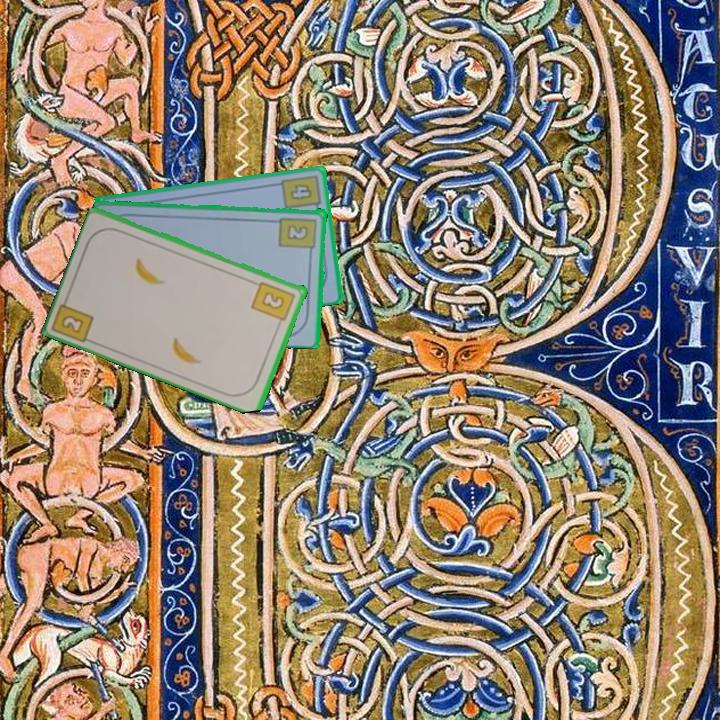2b: (249, 278, 298, 329), (51, 292, 97, 345), (277, 213, 319, 257)
4b: (278, 171, 323, 215)
